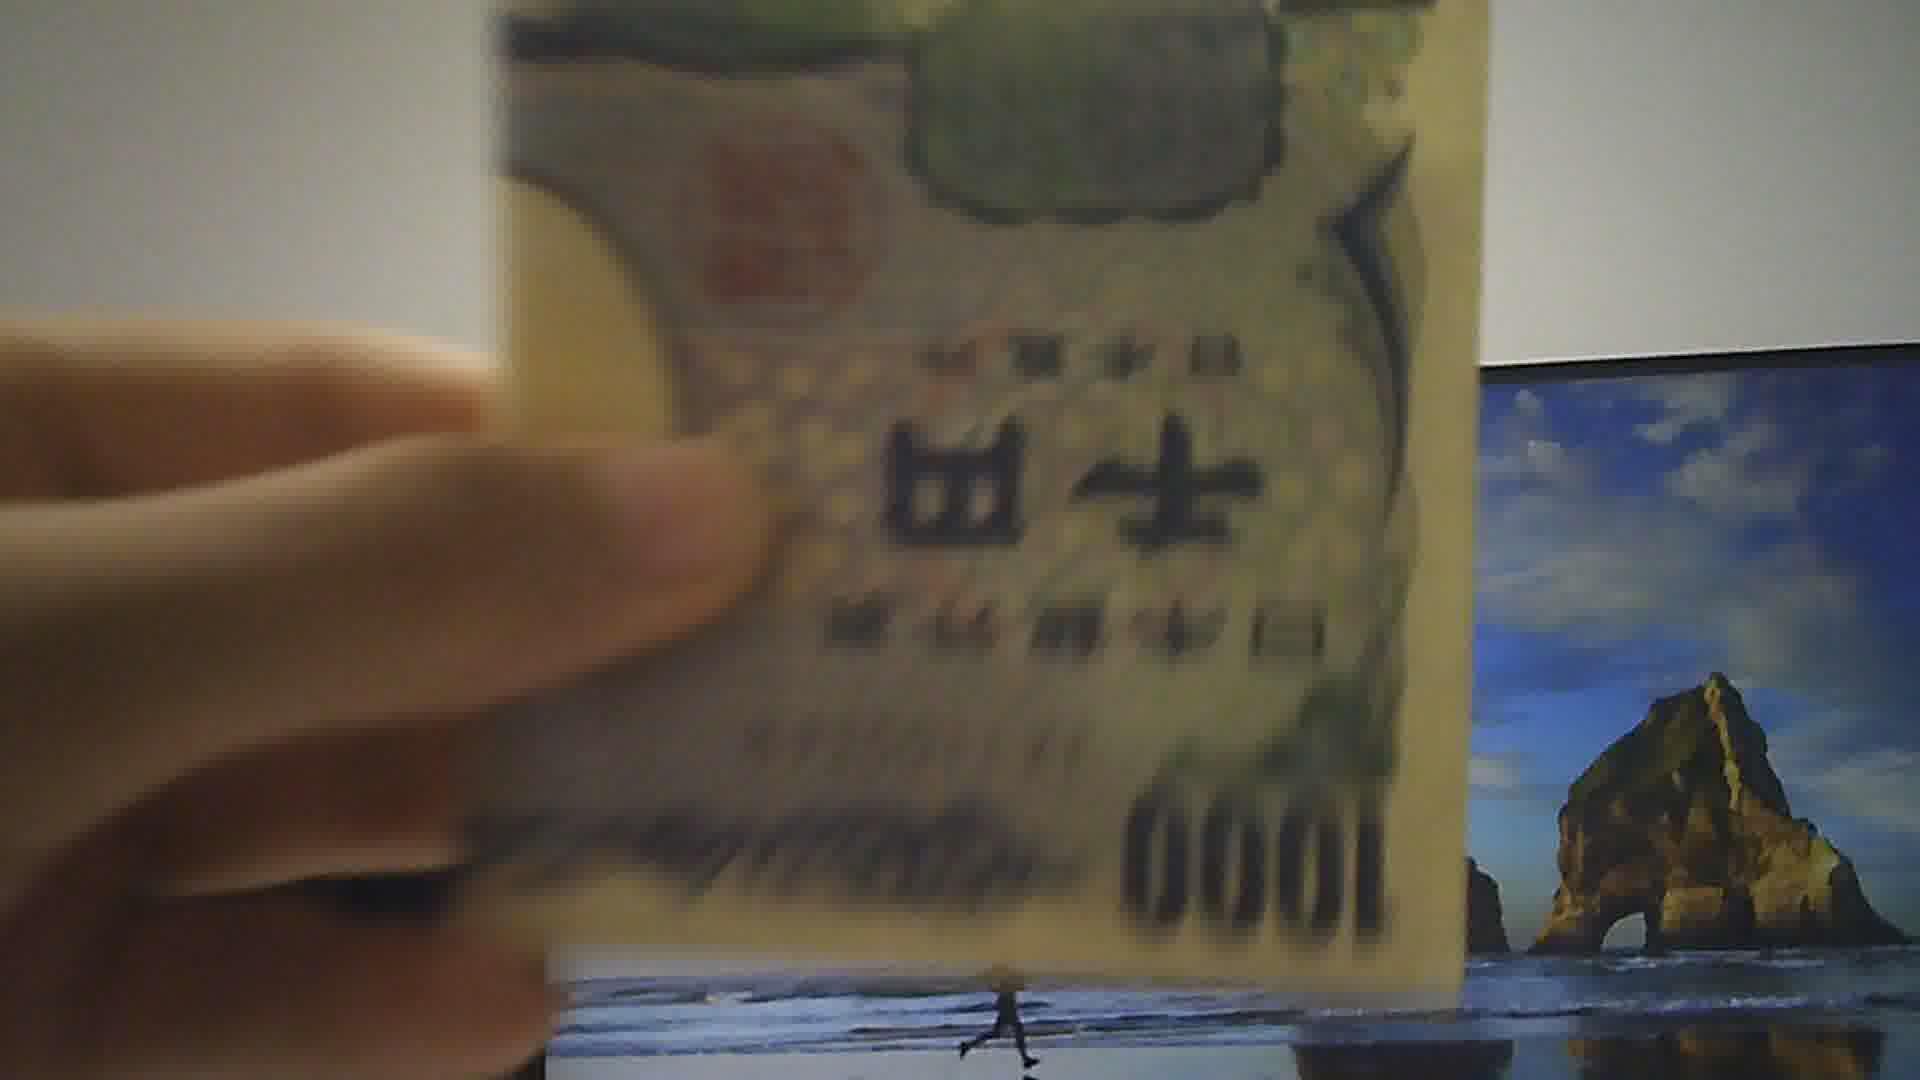1,000 Yen: (475, 3, 1468, 1004)
